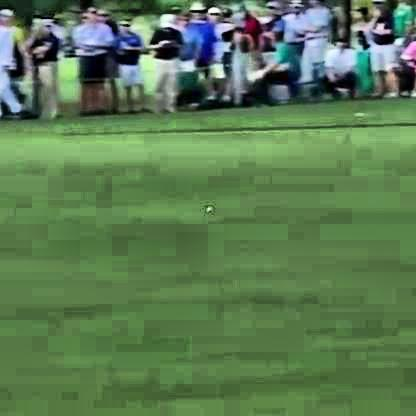golfball: (203, 205, 210, 210)
